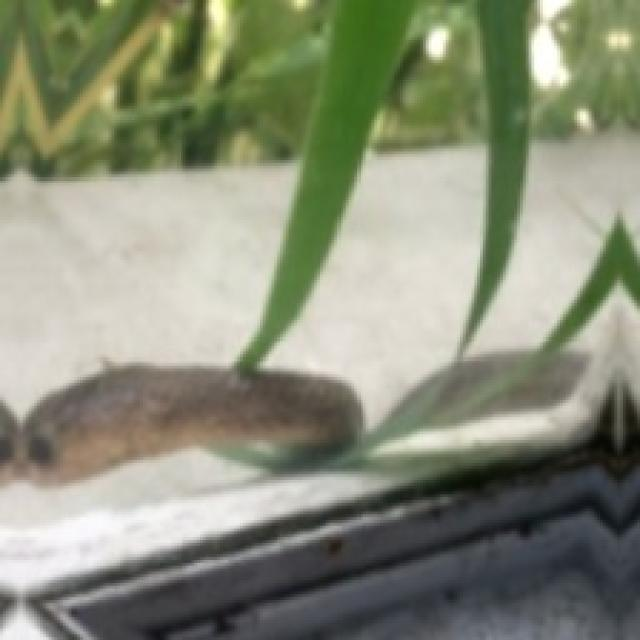philippine cobra: (0, 366, 360, 480)
